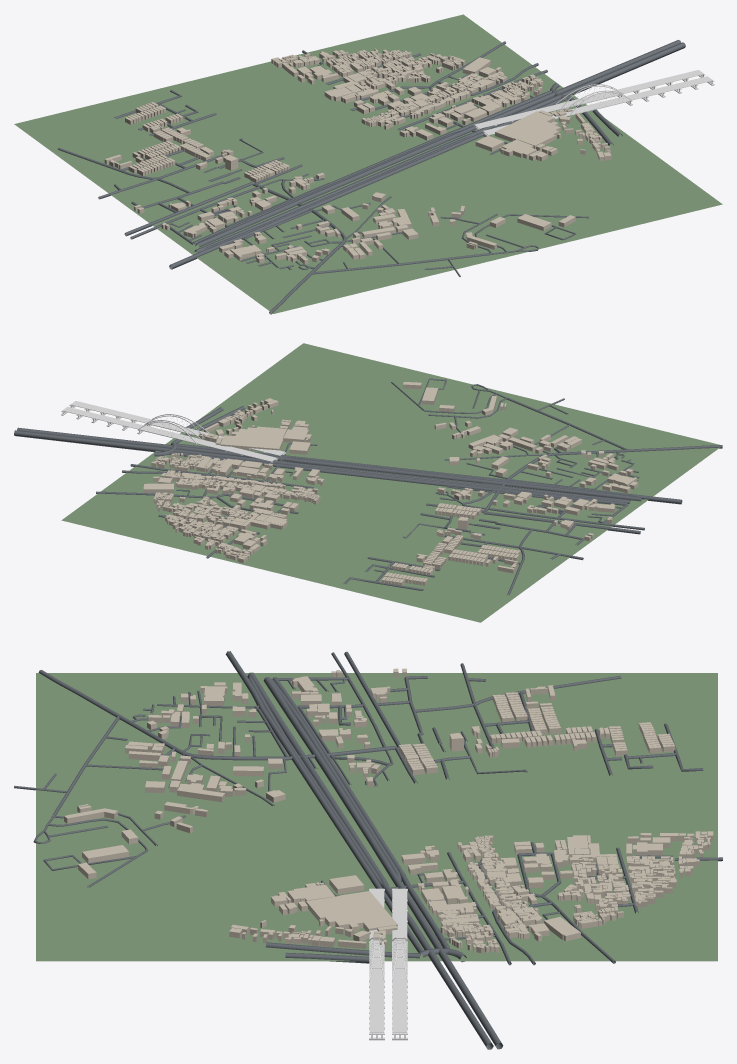
The model's file is binh-loi-osm-context.glb.
3 renders of one model, top to bottom at view 1: azimuth 30°, elevation 25°; view 2: azimuth 150°, elevation 25°; view 3: azimuth 270°, elevation 25°, orthographic. The views are drawn at different scales.
Parts seen in each view (by area): view 1: OSM local ground, OSM road.121, OSM road.123, OSM road.034, OSM road.031, OSM road.093, OSM road.104, OSM road.030, OSM road.011, OSM road.095, OSM road.099; view 2: OSM local ground, OSM road.093, OSM road.123, OSM road.030, OSM road.121, OSM road.104, OSM road.099, OSM road.095, OSM road.011, OSM road.034, OSM road.031; view 3: OSM local ground, OSM road.123, OSM road.121, OSM road.034, OSM road.104, OSM road.093, OSM road.031, OSM road.099, OSM road.030, OSM road.095.
Boxes of the visible parts, <box> form: OSM local ground: <box>14,14,722,313</box>; OSM road.121: <box>475,42,685,133</box>; OSM road.123: <box>464,40,681,133</box>; OSM road.034: <box>245,139,467,235</box>; OSM road.031: <box>314,129,466,196</box>; OSM road.093: <box>240,138,459,232</box>; OSM road.104: <box>269,208,346,314</box>; OSM road.030: <box>229,135,443,226</box>; OSM road.011: <box>124,182,253,236</box>; OSM road.095: <box>243,136,469,233</box>; OSM road.099: <box>232,132,455,227</box>; OSM local ground: <box>61,343,722,622</box>; OSM road.093: <box>305,459,585,494</box>; OSM road.123: <box>14,430,286,464</box>; OSM road.030: <box>307,467,579,499</box>; OSM road.121: <box>17,427,285,460</box>; OSM road.104: <box>506,445,722,479</box>; OSM road.099: <box>295,464,580,497</box>; OSM road.095: <box>296,458,586,490</box>; OSM road.011: <box>483,511,640,534</box>; OSM road.034: <box>304,457,587,489</box>; OSM road.031: <box>286,461,477,484</box>; OSM local ground: <box>36,673,717,961</box>; OSM road.123: <box>394,880,503,1049</box>; OSM road.121: <box>382,884,493,1049</box>; OSM road.034: <box>260,707,373,877</box>; OSM road.104: <box>38,670,291,760</box>; OSM road.093: <box>269,706,380,872</box>; OSM road.031: <box>323,767,400,883</box>; OSM road.099: <box>289,705,400,875</box>; OSM road.030: <box>292,705,400,867</box>; OSM road.095: <box>265,707,380,879</box>.
Bounding box in the file's own units: 1502 × 42.75 × 1144.
